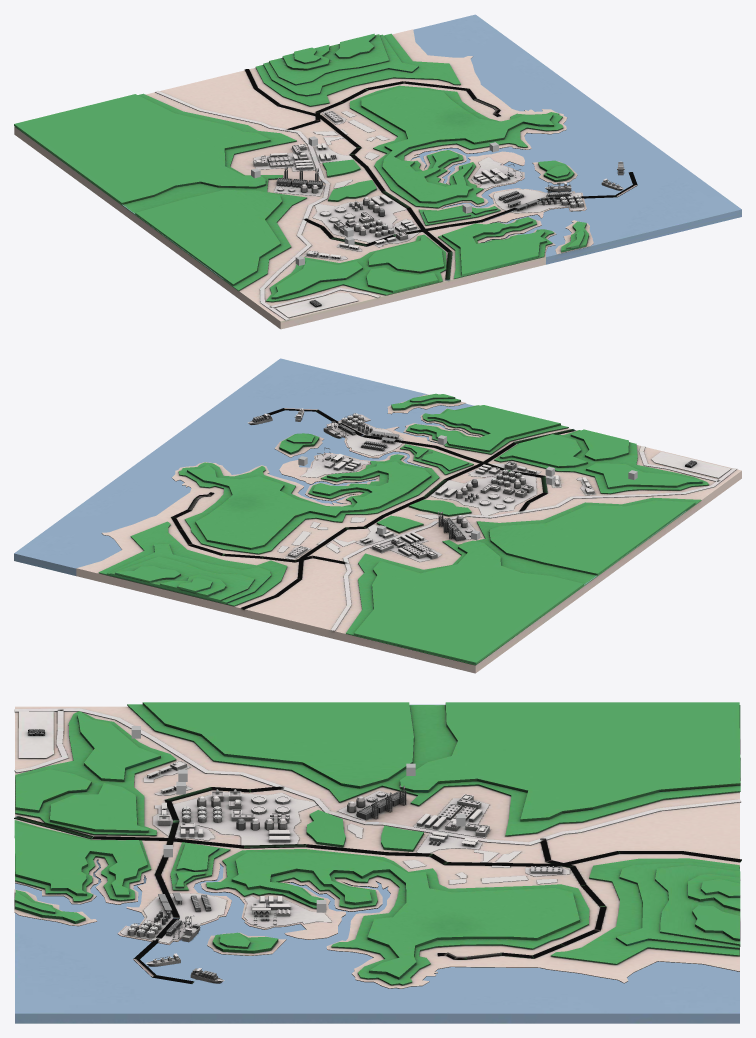
File: mapa suape_v9.obj
The picture shows the model from 3 angles, top to bottom: view 1: azimuth 30°, elevation 25°; view 2: azimuth 150°, elevation 25°; view 3: azimuth 270°, elevation 25°; orthographic projection. The views are drawn at different scales.
Visible parts, largest first — view 1: big, medium, small; view 2: big, medium, small; view 3: big, medium, small.
Boxes of the visible parts, <box> form: big: <box>14,14,741,329</box>; medium: <box>253,110,584,317</box>; small: <box>253,111,624,320</box>; big: <box>14,358,741,673</box>; medium: <box>277,415,730,561</box>; small: <box>247,408,696,558</box>; big: <box>14,702,741,1023</box>; medium: <box>18,754,569,943</box>; small: <box>14,710,562,983</box>.
Size of the model in its own units: 12.19 by 0.5906 by 12.22.
